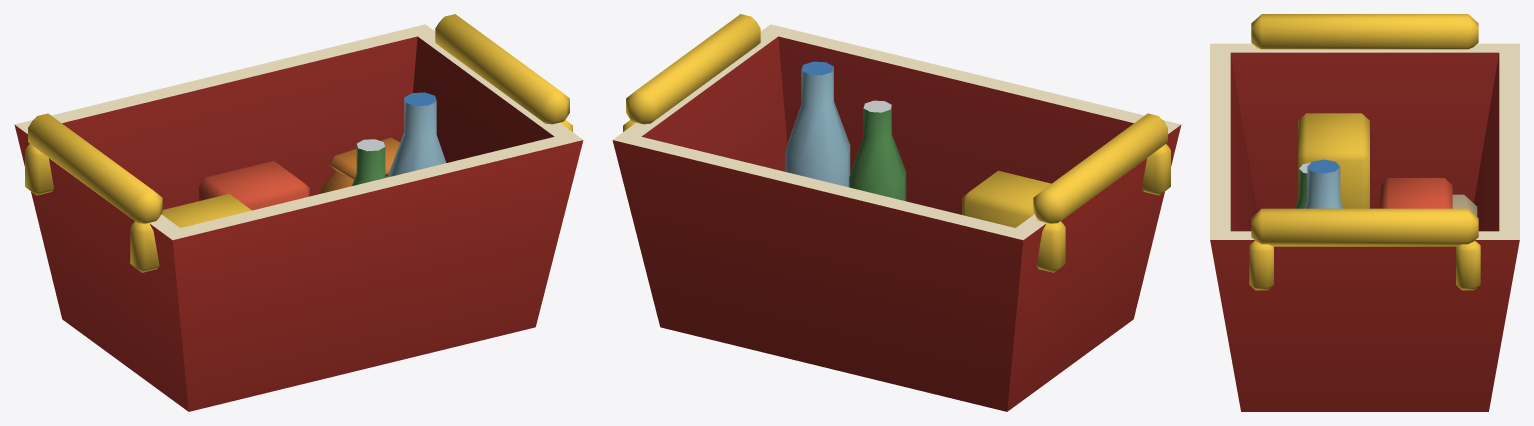
Rendered from Basket_Hand_Full_01.glb.
3 renders of one model, left to right at view 1: azimuth 30°, elevation 25°; view 2: azimuth 150°, elevation 25°; view 3: azimuth 270°, elevation 25°, orthographic. The views are drawn at different scales.
Visible parts, largest first — view 1: SM_Basket_Hand_Full_01; view 2: SM_Basket_Hand_Full_01; view 3: SM_Basket_Hand_Full_01.
Boxes of the visible parts, left/top/right/bottom form: SM_Basket_Hand_Full_01: left=14, top=14, right=583, bottom=411; SM_Basket_Hand_Full_01: left=612, top=14, right=1181, bottom=411; SM_Basket_Hand_Full_01: left=1210, top=14, right=1519, bottom=411.
Bounding box in the file's own units: 0.478 × 0.23 × 0.3.
1 material, 1 textured.
